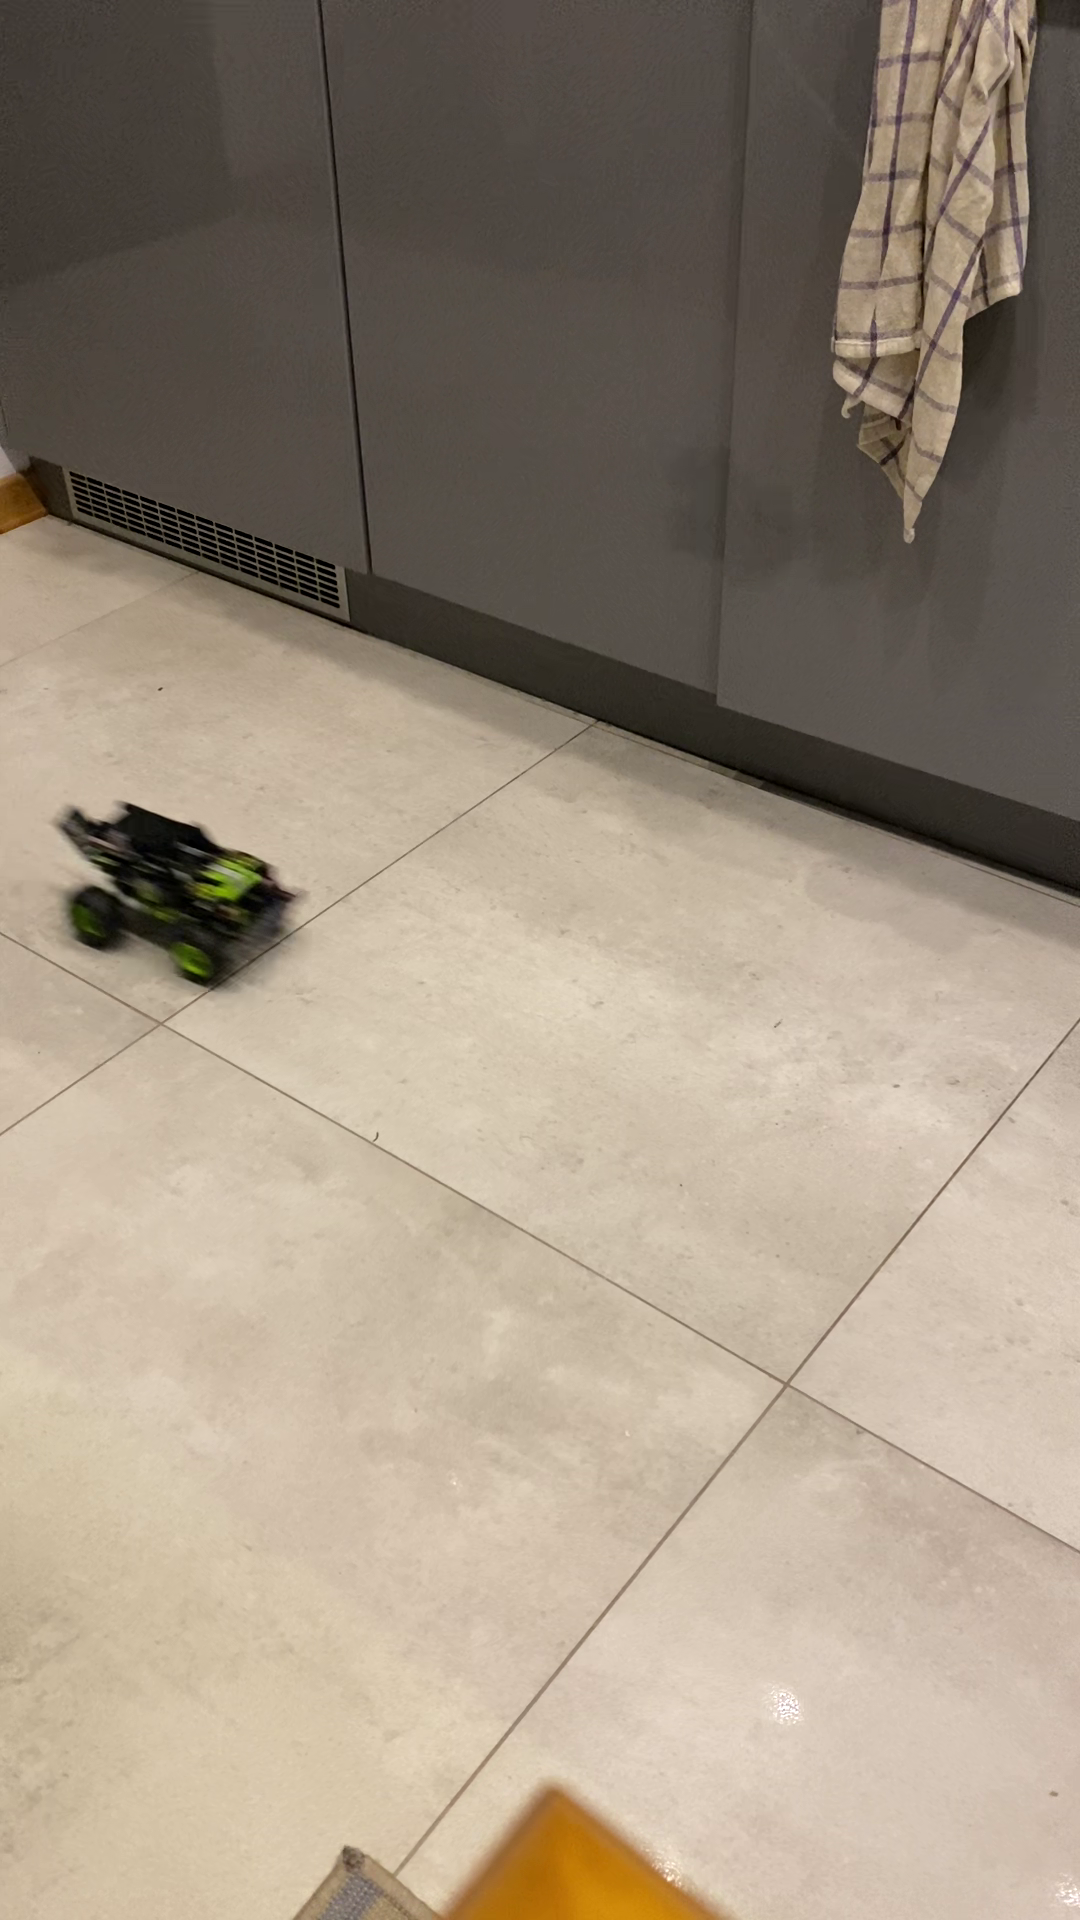car: (58, 793, 305, 1007)
